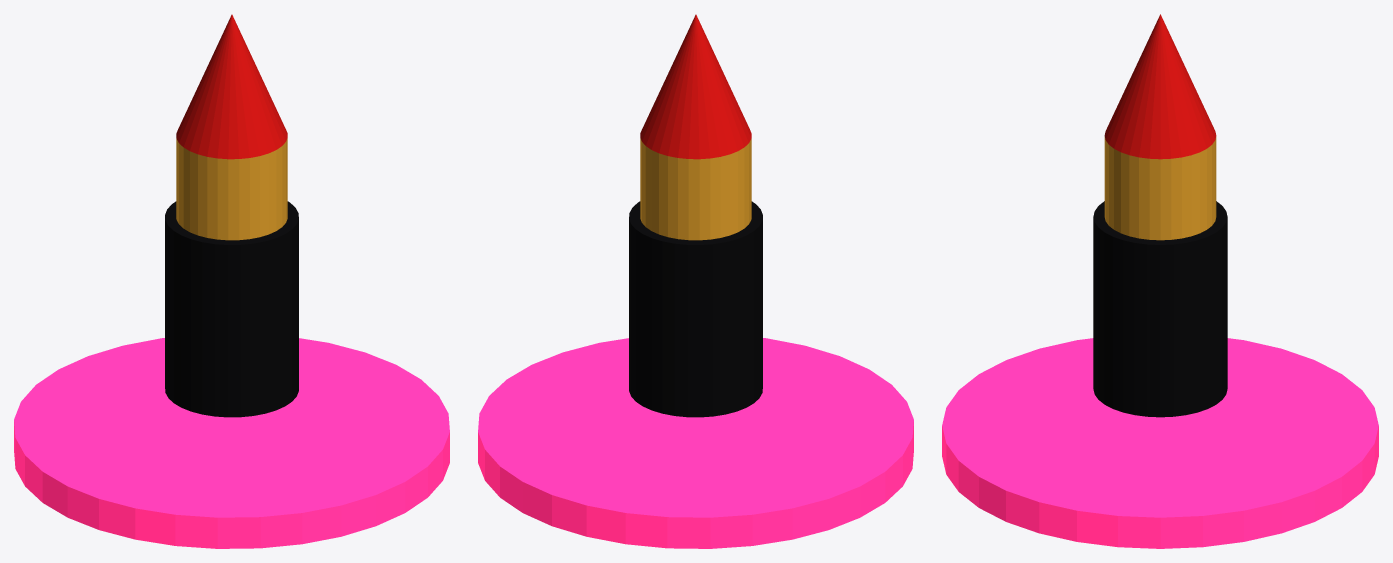
The model's file is beauty_lipstick.dae.
The picture shows the model from 3 angles, left to right: view 1: azimuth 30°, elevation 25°; view 2: azimuth 150°, elevation 25°; view 3: azimuth 270°, elevation 25°; orthographic projection.
Visible parts, largest first — view 1: 03_01_Popular_Beauty_Lipstick_ROOT_base, 03_01_Popular_Beauty_Lipstick_part_01, 03_01_Popular_Beauty_Lipstick_part_02, 03_01_Popular_Beauty_Lipstick_part_03; view 2: 03_01_Popular_Beauty_Lipstick_ROOT_base, 03_01_Popular_Beauty_Lipstick_part_01, 03_01_Popular_Beauty_Lipstick_part_02, 03_01_Popular_Beauty_Lipstick_part_03; view 3: 03_01_Popular_Beauty_Lipstick_ROOT_base, 03_01_Popular_Beauty_Lipstick_part_01, 03_01_Popular_Beauty_Lipstick_part_02, 03_01_Popular_Beauty_Lipstick_part_03.
Boxes of the visible parts, box(x1,y1,x2,y2) form: 03_01_Popular_Beauty_Lipstick_ROOT_base: box(14, 338, 449, 548); 03_01_Popular_Beauty_Lipstick_part_01: box(165, 201, 298, 417); 03_01_Popular_Beauty_Lipstick_part_02: box(176, 138, 287, 240); 03_01_Popular_Beauty_Lipstick_part_03: box(176, 14, 287, 159); 03_01_Popular_Beauty_Lipstick_ROOT_base: box(478, 338, 913, 548); 03_01_Popular_Beauty_Lipstick_part_01: box(629, 201, 762, 417); 03_01_Popular_Beauty_Lipstick_part_02: box(640, 138, 751, 240); 03_01_Popular_Beauty_Lipstick_part_03: box(640, 14, 751, 159); 03_01_Popular_Beauty_Lipstick_ROOT_base: box(942, 338, 1378, 548); 03_01_Popular_Beauty_Lipstick_part_01: box(1093, 201, 1227, 417); 03_01_Popular_Beauty_Lipstick_part_02: box(1104, 137, 1216, 240); 03_01_Popular_Beauty_Lipstick_part_03: box(1104, 14, 1216, 159).
Size of the model in its own units: 0.76 by 0.85 by 0.76.
